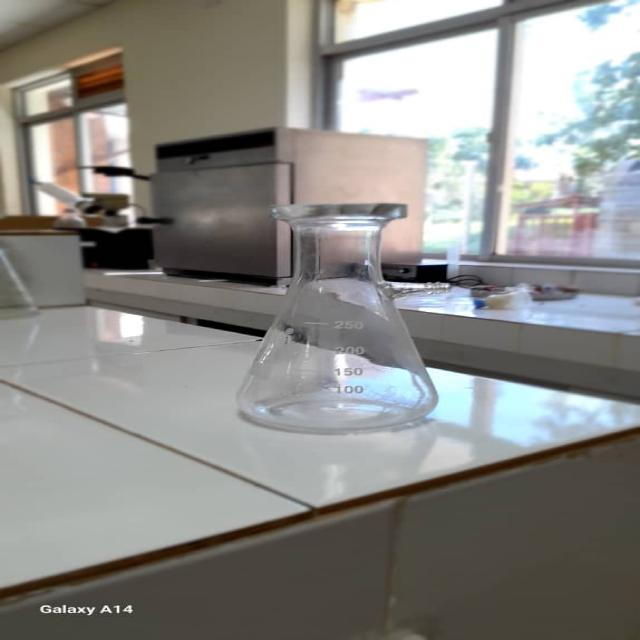Filtration Flask: (238, 198, 477, 438)
